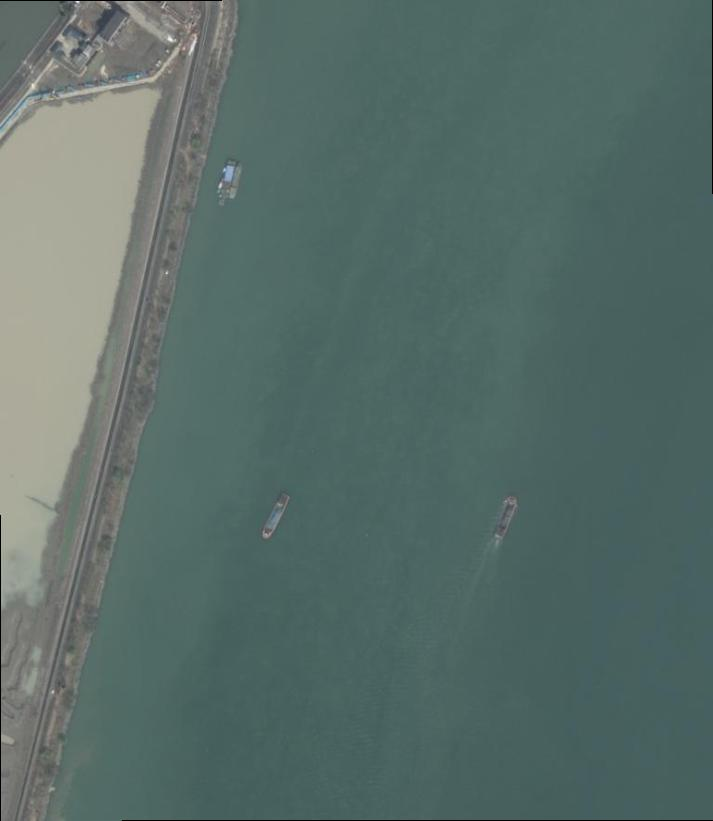ship: (261, 491, 292, 540), (493, 496, 519, 540), (217, 158, 238, 205), (229, 165, 243, 198)
